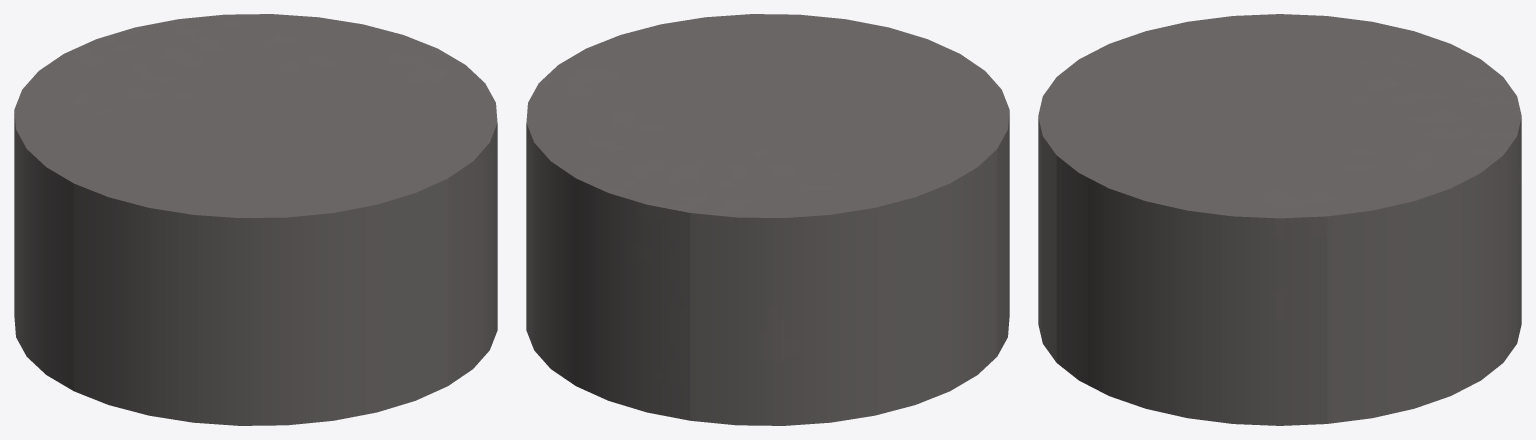
File: backrest__pop_pin_boss.glb
3 views of the same model, side by side, from view 1: azimuth 30°, elevation 25°; view 2: azimuth 150°, elevation 25°; view 3: azimuth 270°, elevation 25° (orthographic).
Visible parts, largest first — view 1: world; view 2: world; view 3: world.
Boxes of the visible parts, <box> form: world: <box>14,14,497,425</box>; world: <box>526,14,1009,425</box>; world: <box>1038,14,1521,425</box>.
Bounding box in the file's own units: 0.038 × 0.018 × 0.038.
1 material, 1 textured.
